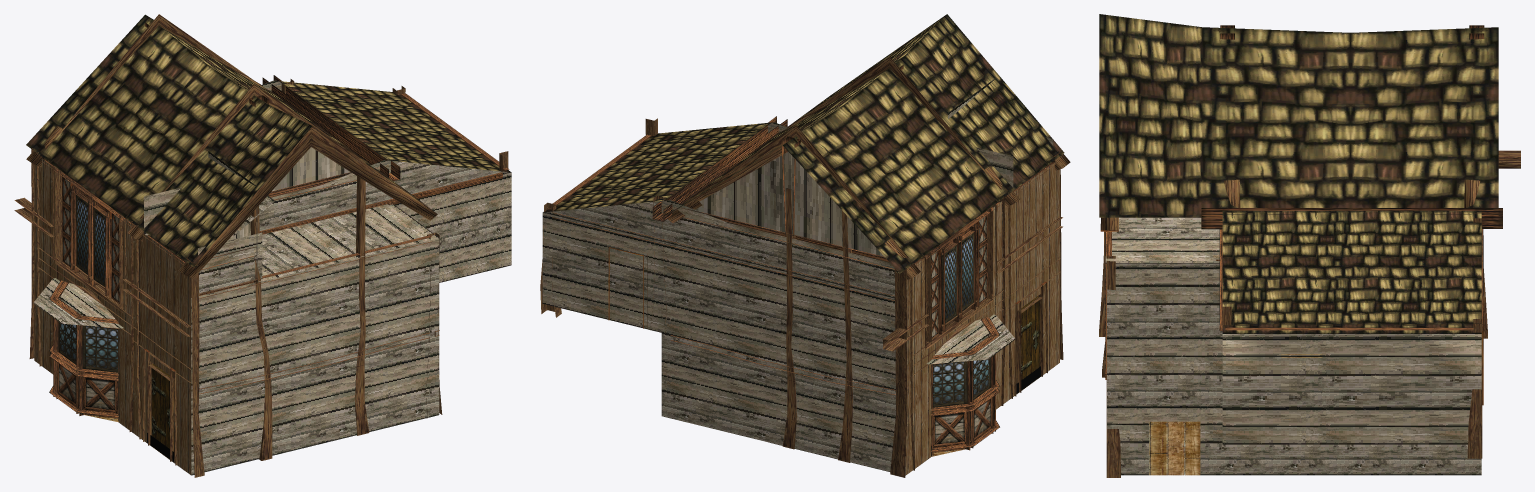
The model's file is LAKETOWN_GRANDMA_PS_GM_MAIN_SHELL96968__GX.fbx.
The picture shows the model from 3 angles, left to right: view 1: azimuth 30°, elevation 25°; view 2: azimuth 150°, elevation 25°; view 3: azimuth 270°, elevation 25°; orthographic projection. The views are drawn at different scales.
Parts seen in each view (by area): view 1: LAKETOWN_GRANDMA_PS_GM_MAIN_SHELL96968__GX; view 2: LAKETOWN_GRANDMA_PS_GM_MAIN_SHELL96968__GX; view 3: LAKETOWN_GRANDMA_PS_GM_MAIN_SHELL96968__GX.
Boxes of the visible parts, <box> form: LAKETOWN_GRANDMA_PS_GM_MAIN_SHELL96968__GX: <box>14,14,511,477</box>; LAKETOWN_GRANDMA_PS_GM_MAIN_SHELL96968__GX: <box>540,14,1070,477</box>; LAKETOWN_GRANDMA_PS_GM_MAIN_SHELL96968__GX: <box>1099,14,1520,477</box>.
Size of the model in its own units: 123244 by 92203 by 91207.
Materials: 21 (21 with a texture image).
